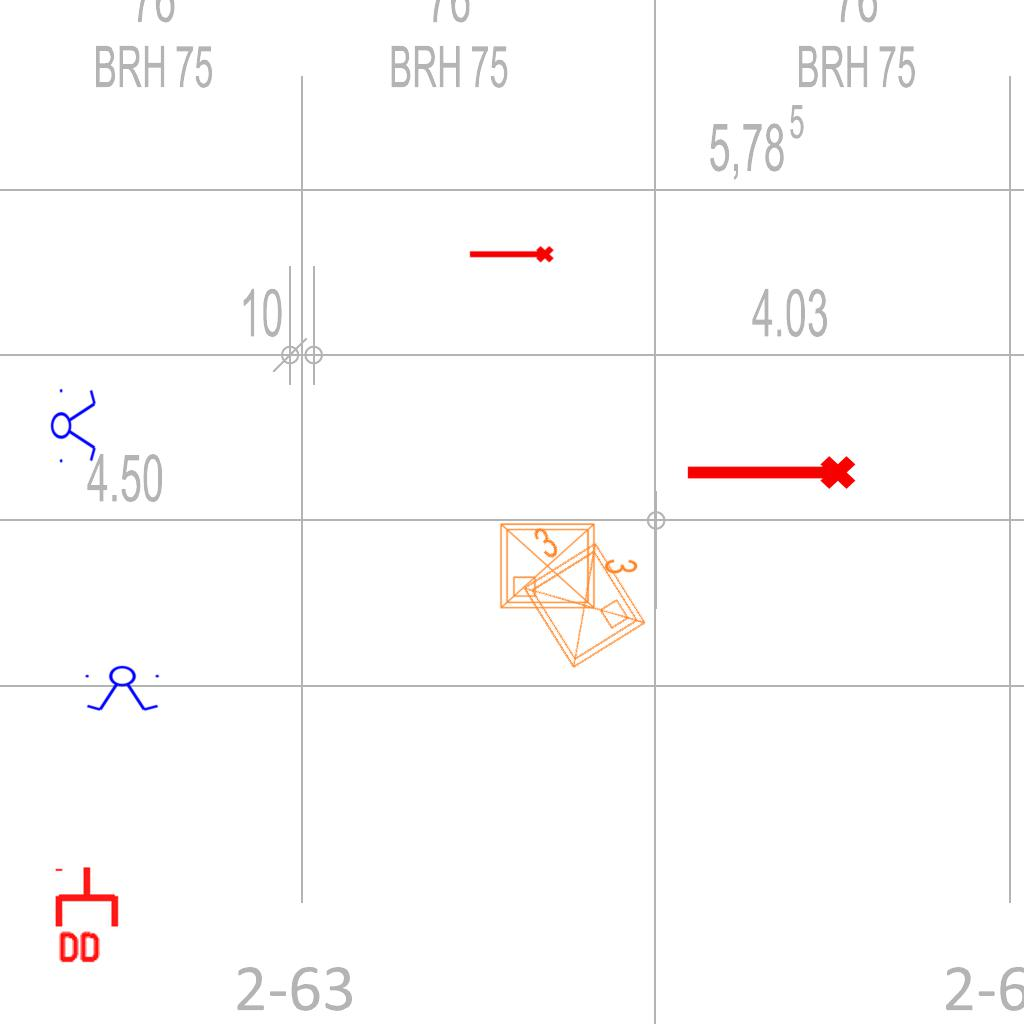ASR_Ansaugoeffnung: (682, 452, 858, 498), (467, 244, 555, 267)
Datenanschluss_zweifach: (54, 864, 123, 967)
Einbaudownlights_LED_Konferenzraeume: (488, 497, 656, 681), (493, 512, 643, 616)
Serienschalter: (81, 665, 165, 713), (50, 383, 98, 467)
